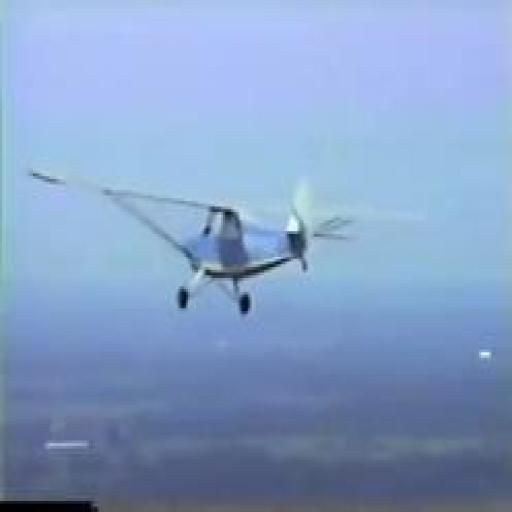aircraft: (31, 169, 354, 318)
